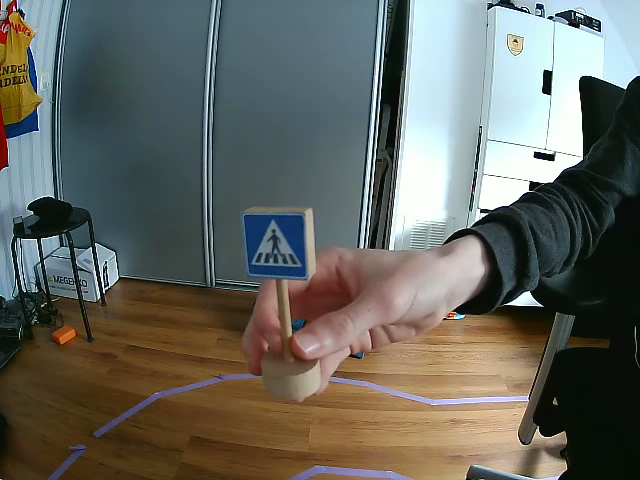zebrapad: (246, 213, 306, 278)
